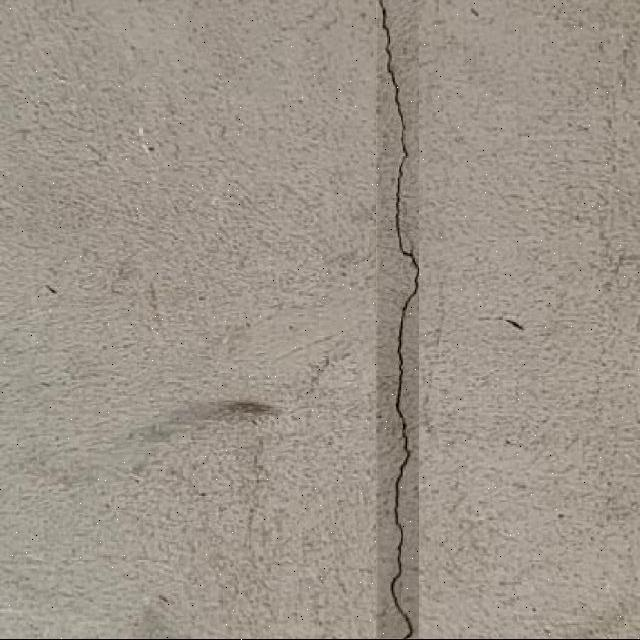crack: (374, 0, 420, 639)
